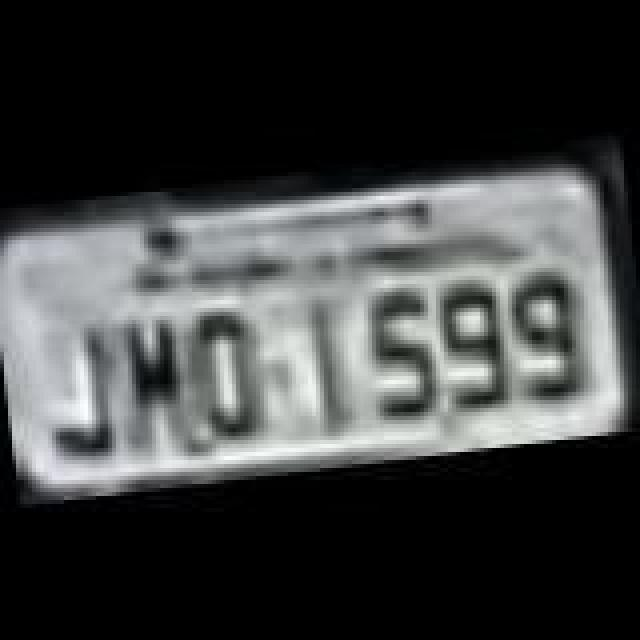1: (296, 292, 360, 428)
5: (356, 282, 444, 430)
9: (426, 274, 518, 422), (504, 262, 592, 410)
J: (36, 318, 124, 466)
M: (116, 308, 188, 460)
O: (184, 302, 264, 450)
